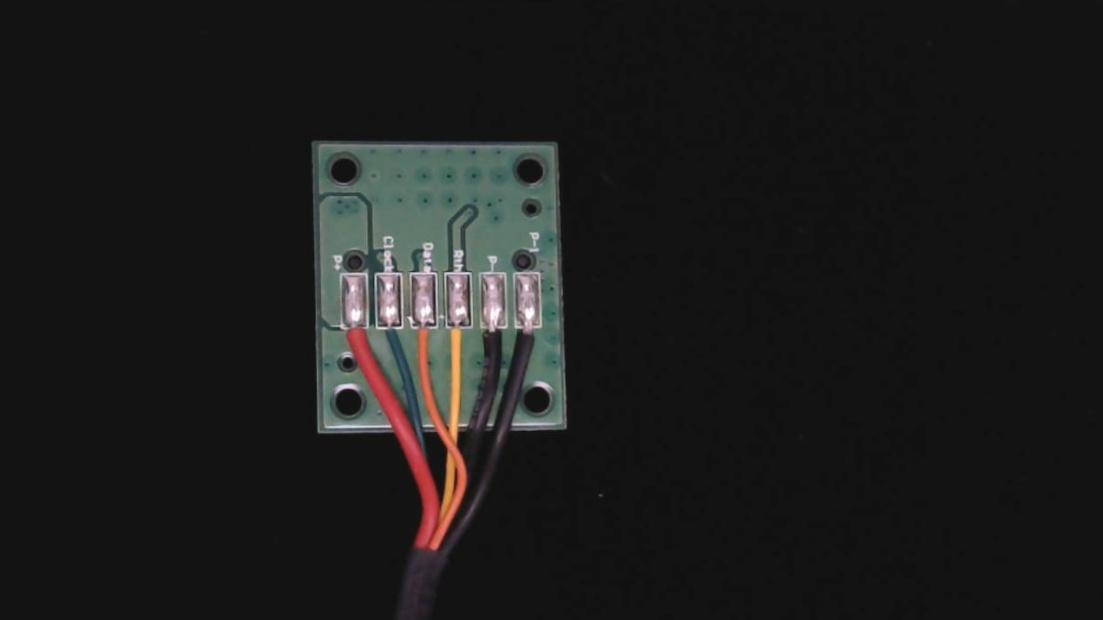Black: (478, 318, 509, 377)
Black1: (515, 316, 544, 372)
Green: (376, 313, 405, 365)
Orange: (410, 315, 439, 376)
Red: (339, 314, 371, 366)
Yellow: (441, 316, 476, 375)
